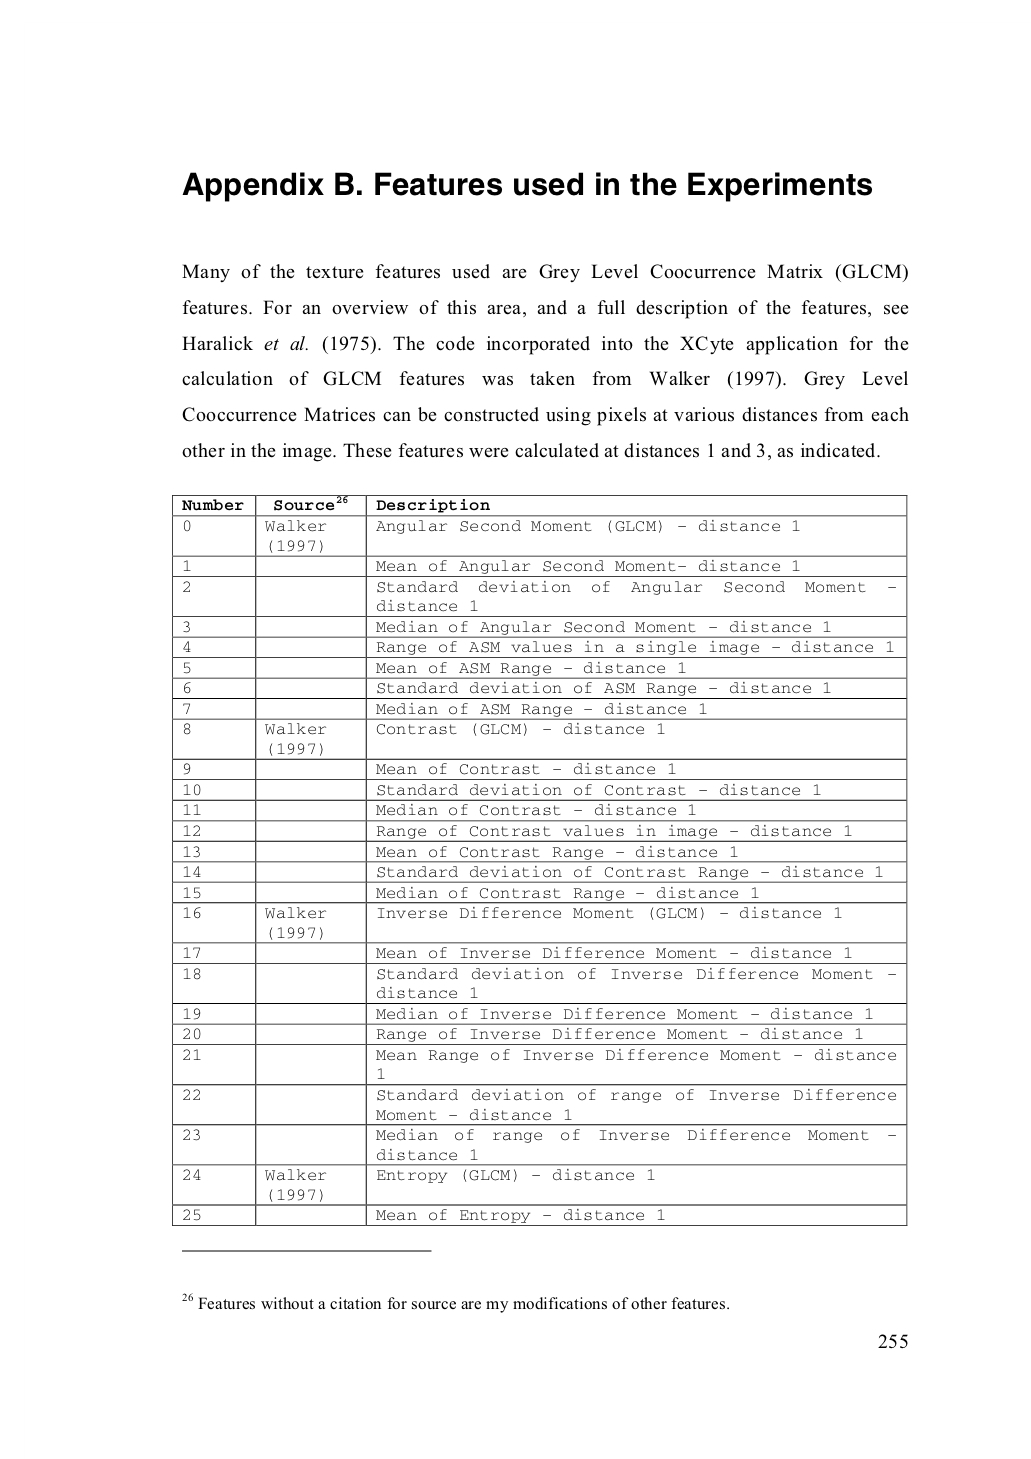Table: (172, 494, 907, 1226)
figure: (182, 1248, 431, 1252)
